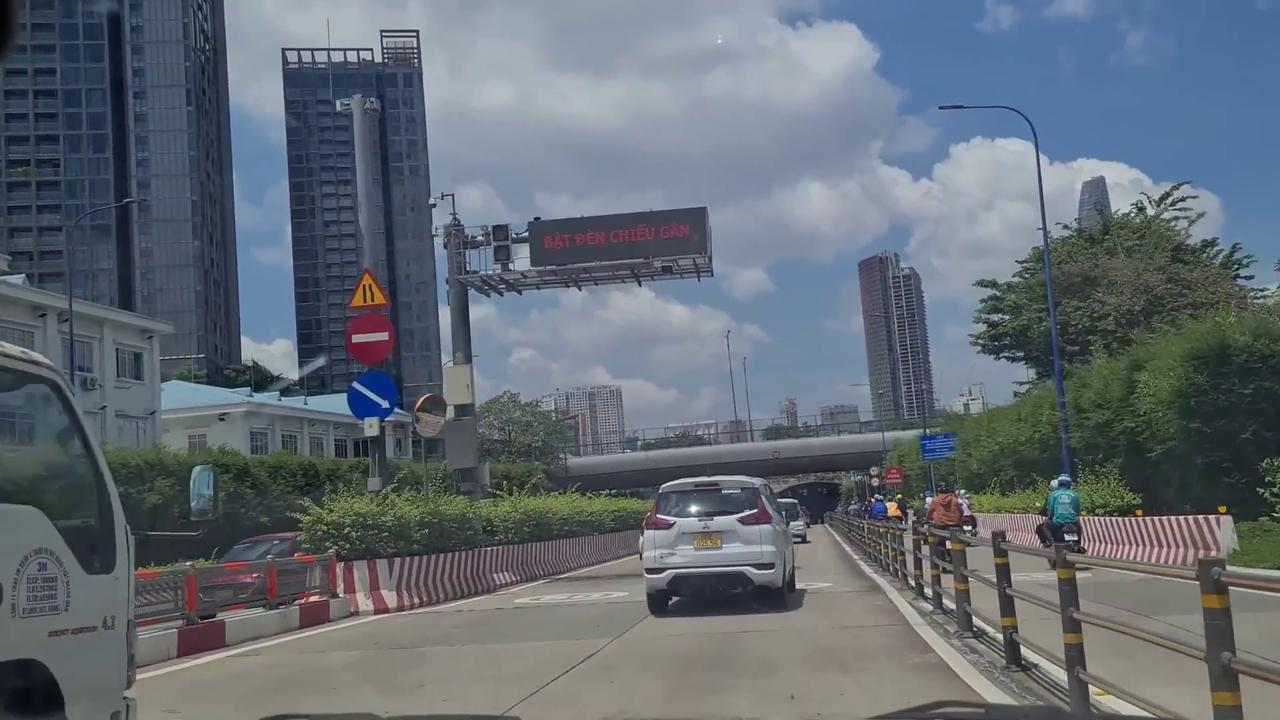Cấm đi ngược chiều: (343, 311, 397, 367)
Hướng phải đi vòng sang phải: (346, 369, 399, 424)
Đuờng hẹp: (343, 266, 392, 309)
